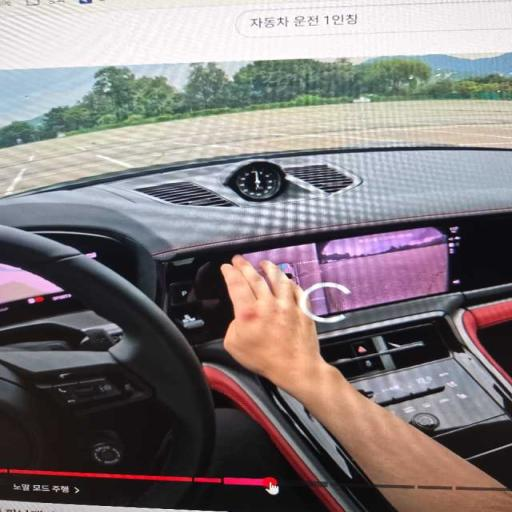lane: (0, 100, 511, 194)
person: (221, 256, 511, 511)
